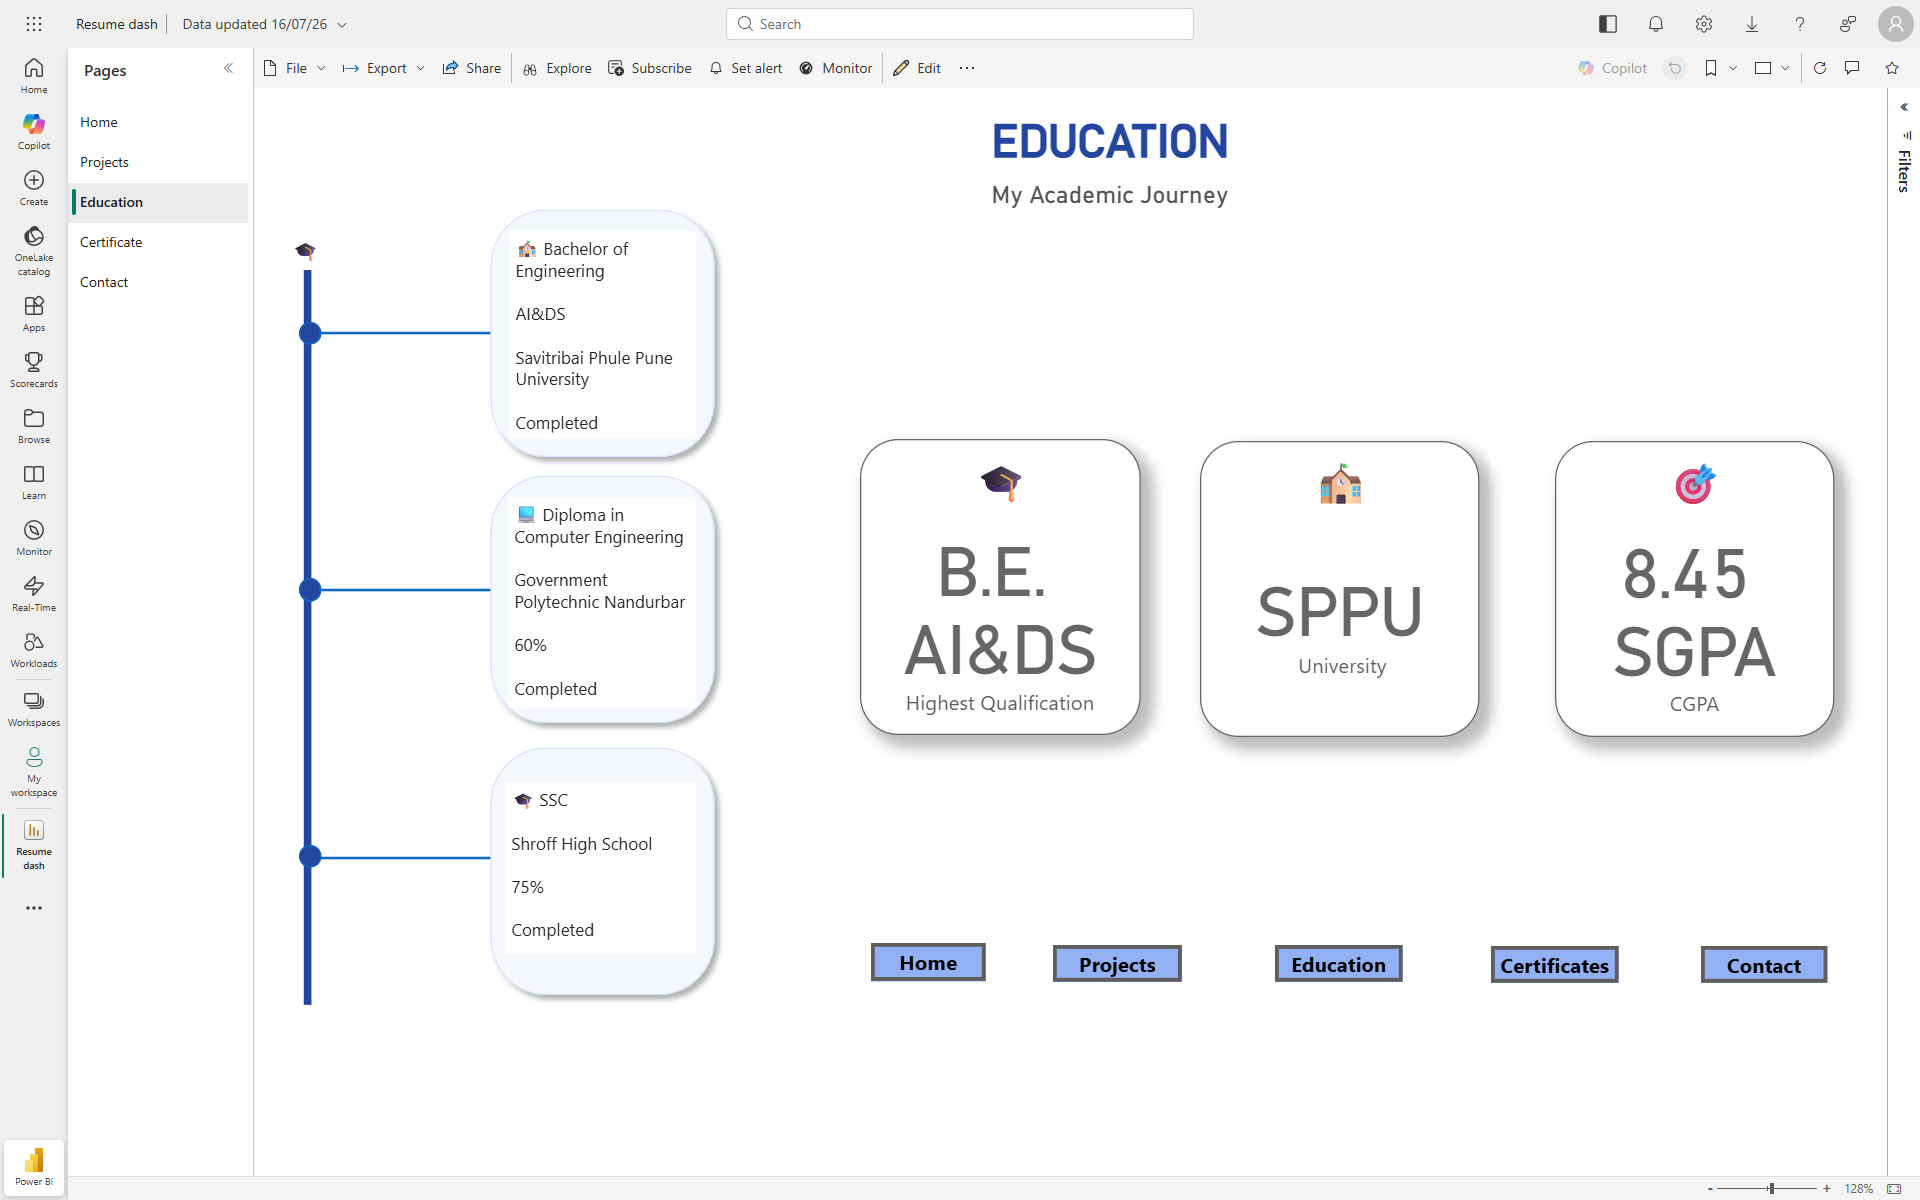

What the dashboard file says about the page in this screenshot:
{"tool":"powerbi","page":{"name":"Education","canvas":[1280,720],"ordinal":2},"visuals":[{"type":"textbox","title":"EDUCATION","box":[573.3,20.4,206.5,38.9],"z":0},{"type":"textbox","title":"My Academic Journey","box":[573.3,72.2,203.8,25.9],"z":1000},{"type":"shape","box":[31.5,142.6,21.3,576.1],"z":2000},{"type":"shape","box":[35.2,183.4,17.6,17.6],"z":3000},{"type":"shape","box":[35.2,384.4,17.6,18.5],"z":4000},{"type":"shape","box":[35.2,593.7,17.6,17.6],"z":5000},{"type":"textbox","box":[24.1,111.1,40.8,31.5],"z":6000},{"type":"shape","box":[50.9,184.3,208.4,15.7],"z":7000},{"type":"shape","box":[50.9,385.3,208.4,15.7],"z":8000},{"type":"shape","box":[52.8,595.5,208.4,15.7],"z":9000},{"type":"shape","box":[176,86.1,193.6,212.1],"z":10000},{"type":"textbox","box":[200.1,112.1,146.3,163],"z":11000},{"type":"shape","box":[176,294.5,193.6,212.1],"z":12000},{"type":"shape","box":[176,507.6,193.6,212.1],"z":13000},{"type":"textbox","box":[199.1,320.5,147.3,164.9],"z":14000},{"type":"textbox","box":[196.4,543.7,150,135.2],"z":15000},{"type":"actionButton","title":"Home","box":[483.5,670.6,89.8,29.6],"z":16000},{"type":"actionButton","title":"Projects","box":[626.1,671.5,101,28.7],"z":17000},{"type":"actionButton","title":"Experince","box":[800.2,671.5,100,28.7],"z":18000},{"type":"actionButton","title":"Certificates","box":[969.7,672.4,100,28.7],"z":19000},{"type":"actionButton","title":"Contact","box":[1134.6,672.4,99.1,28.7],"z":20000},{"type":"card","title":"🎓","fields":{"Values":["Min(Education.Degree)"]},"box":[475.1,275.1,219.5,232.5],"z":21000},{"type":"card","title":"🏫","fields":{"Values":["Max(Education.Board/University)"]},"box":[741.9,276.9,219,232],"z":22000},{"type":"card","title":"🎯","fields":{"Values":["Max(Education.Percentage)"]},"box":[1019.7,276.9,219,232],"z":23000}]}

Visuals, with their boxes on the page's 1280x720 design canvas (x1, y1, x2, y2). These are canvas units, not pixel positions in the 1920x1200 screenshot, which may show the page scaled, cropped or inside an application window:
"EDUCATION" textbox: [x1=573, y1=20, x2=780, y2=59]
"My Academic Journey" textbox: [x1=573, y1=72, x2=777, y2=98]
shape: [x1=32, y1=143, x2=53, y2=719]
shape: [x1=35, y1=183, x2=53, y2=201]
shape: [x1=35, y1=384, x2=53, y2=403]
shape: [x1=35, y1=594, x2=53, y2=611]
textbox: [x1=24, y1=111, x2=65, y2=143]
shape: [x1=51, y1=184, x2=259, y2=200]
shape: [x1=51, y1=385, x2=259, y2=401]
shape: [x1=53, y1=596, x2=261, y2=611]
shape: [x1=176, y1=86, x2=370, y2=298]
textbox: [x1=200, y1=112, x2=346, y2=275]
shape: [x1=176, y1=294, x2=370, y2=507]
shape: [x1=176, y1=508, x2=370, y2=720]
textbox: [x1=199, y1=320, x2=346, y2=485]
textbox: [x1=196, y1=544, x2=346, y2=679]
"Home" actionButton: [x1=484, y1=671, x2=573, y2=700]
"Projects" actionButton: [x1=626, y1=672, x2=727, y2=700]
"Experince" actionButton: [x1=800, y1=672, x2=900, y2=700]
"Certificates" actionButton: [x1=970, y1=672, x2=1070, y2=701]
"Contact" actionButton: [x1=1135, y1=672, x2=1234, y2=701]
"🎓" card: [x1=475, y1=275, x2=695, y2=508]
"🏫" card: [x1=742, y1=277, x2=961, y2=509]
"🎯" card: [x1=1020, y1=277, x2=1239, y2=509]
